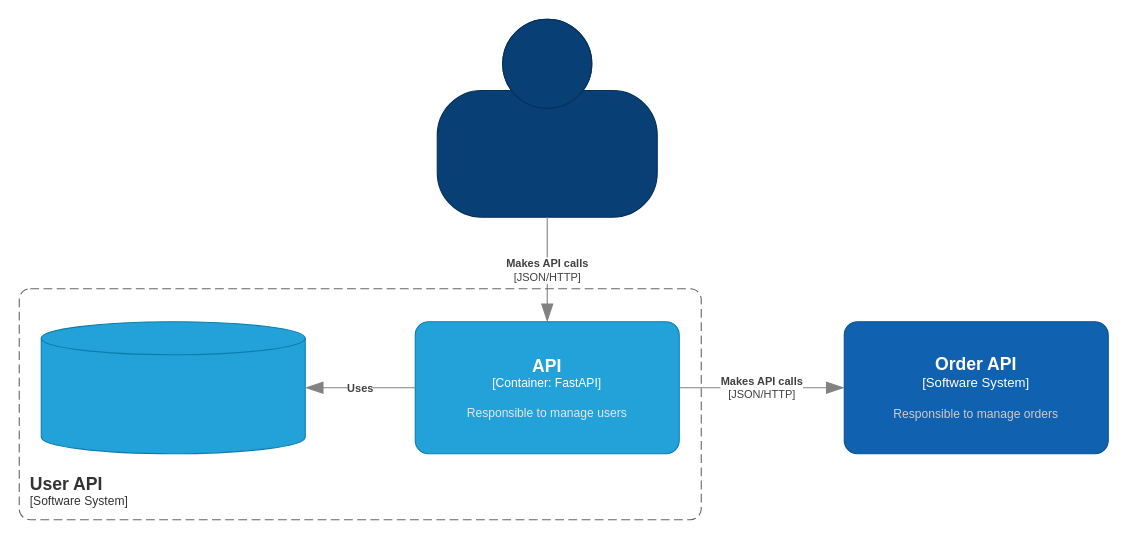
Some shapes in this 1128 by 539 pixel diagram are drawn without their labels. Here are the shapes that lost their labels. From the top down, the centre of each, then its label:
the point at 546,117: Client [Person] A cliente who can manage users
the point at 172,387: Database [Container: PostgreSQL] Store users information
